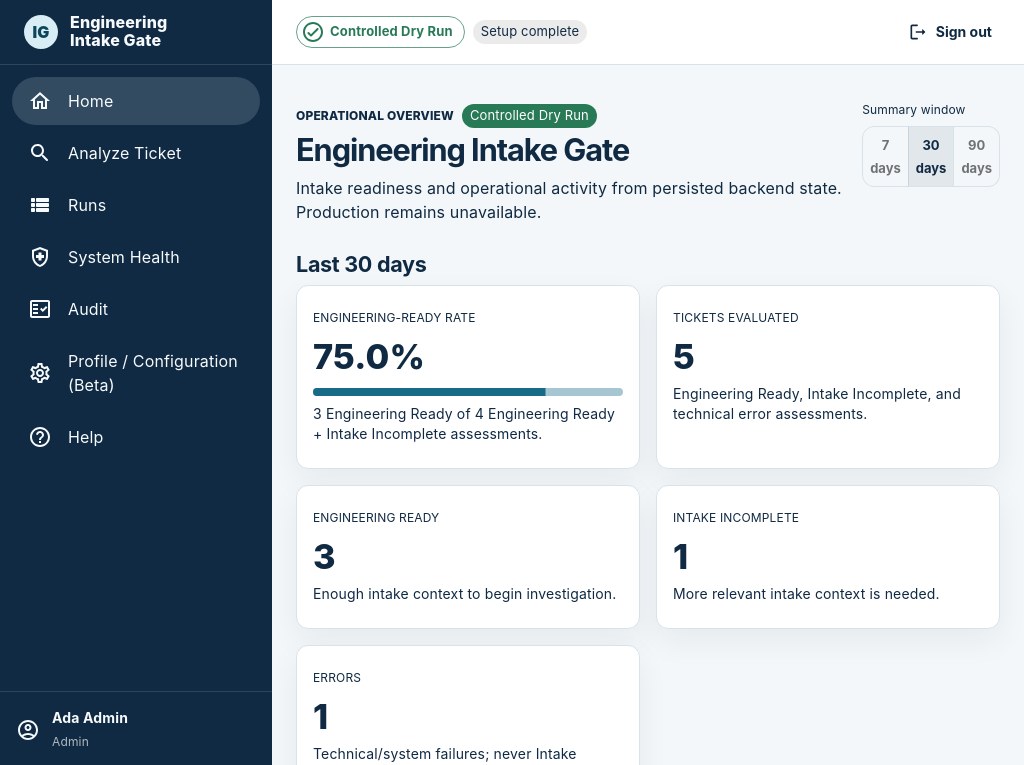
Test: Phase 4A application lifecycle › AUTH-003 restores a backend session after refresh and logs out
Expected: the heading "Engineering Intake Gate" is shown, [296,131,629,168]
Click the button "Sign out".
click(952, 32)  # box [904,11,1000,53]
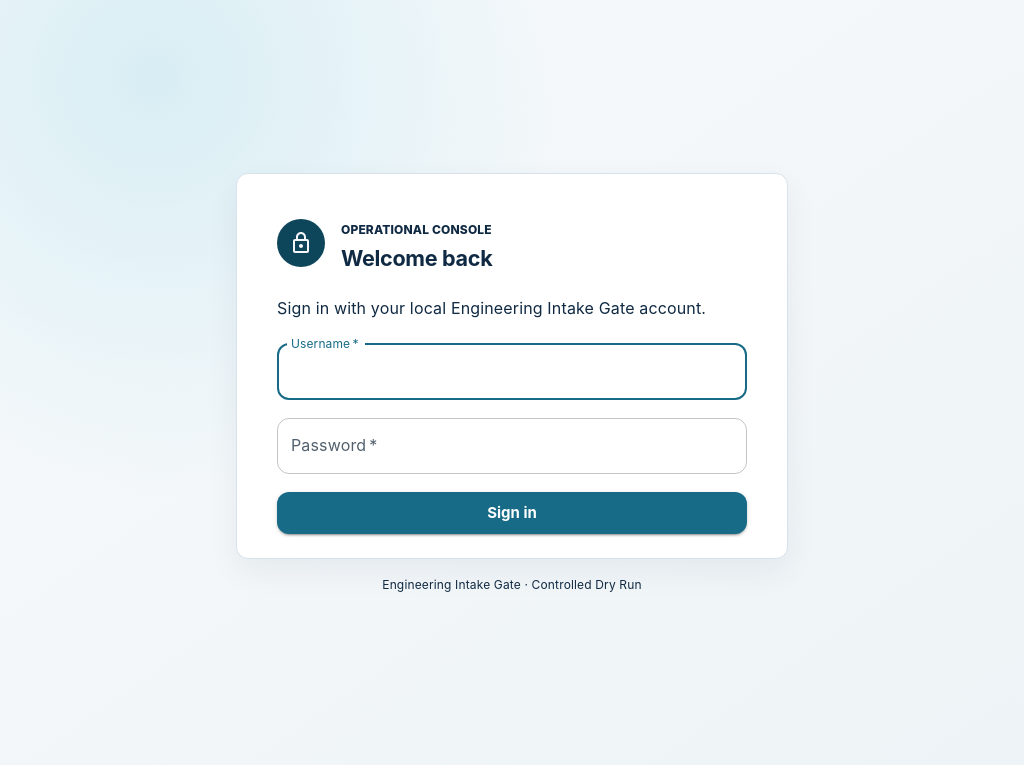
Expected: the heading "Welcome back" is shown, [341,246,492,272]
